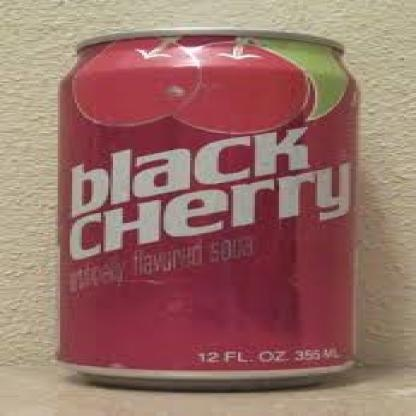trash: (59, 30, 356, 388)
